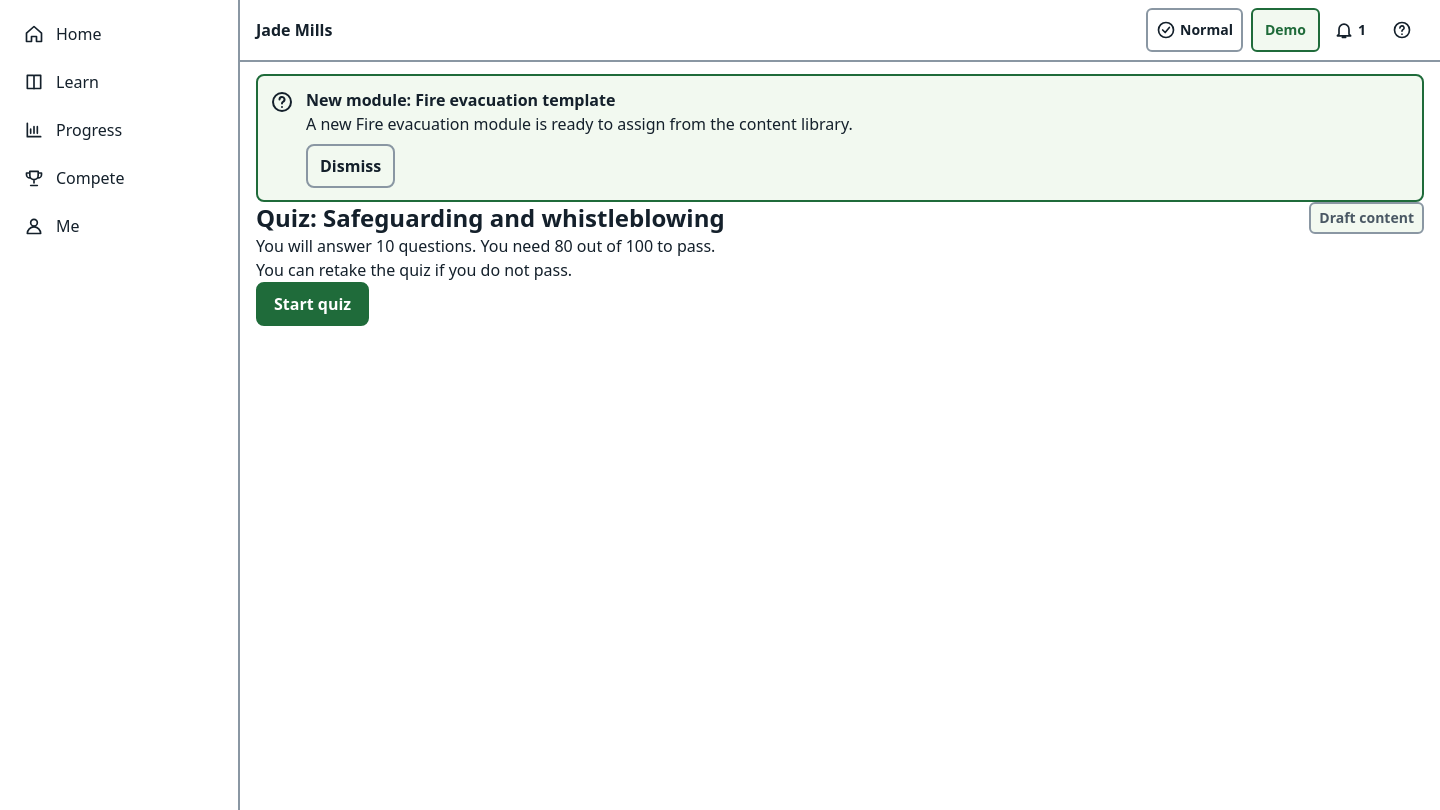
Test: S6 read-aloud Pause › shows no Pause or Read this aloud when Read aloud is off
Click the button "Start quiz" at (313, 304), box 256,282 -> 369,326
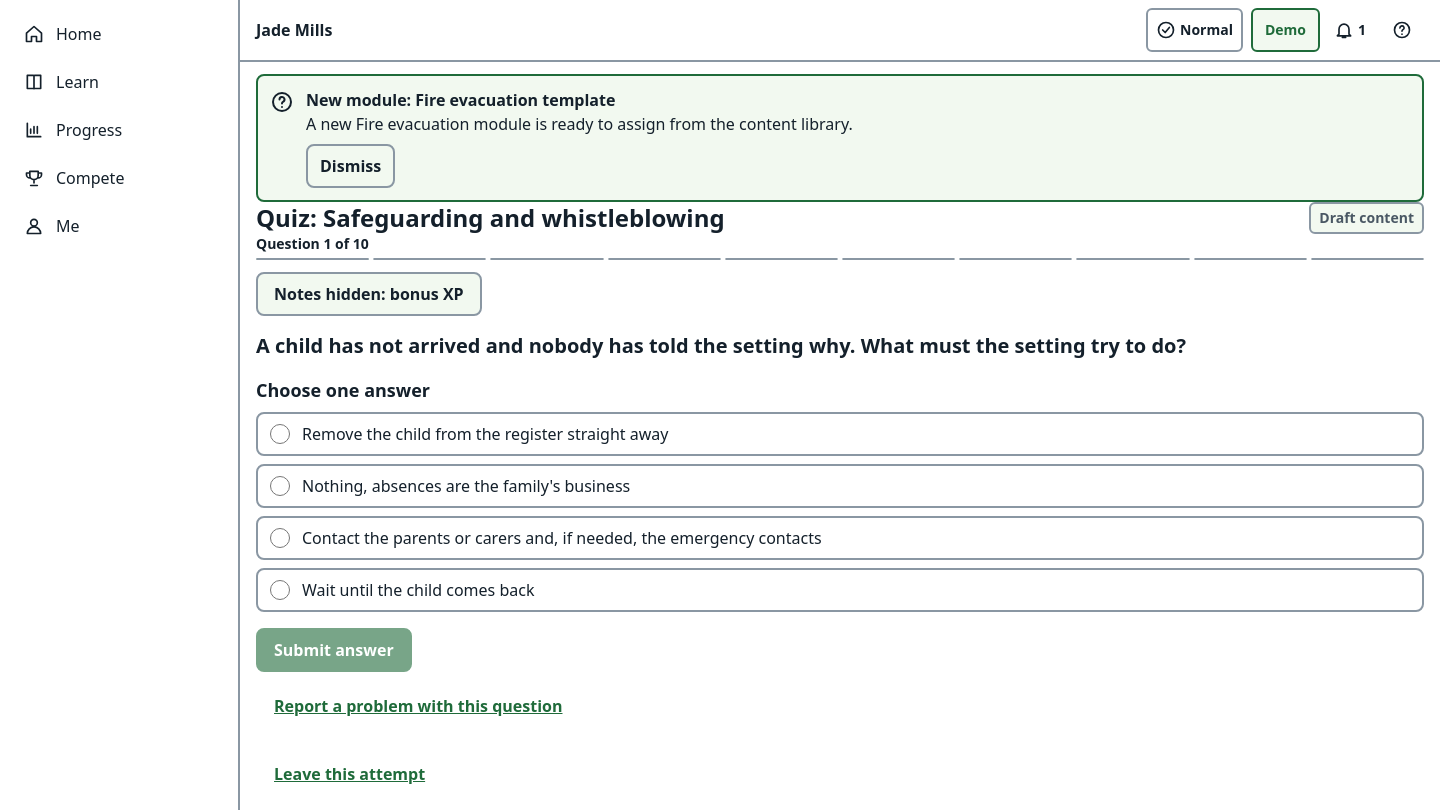
Expected: the heading with test id "question-prompt" is shown, 256,332 -> 1186,359
